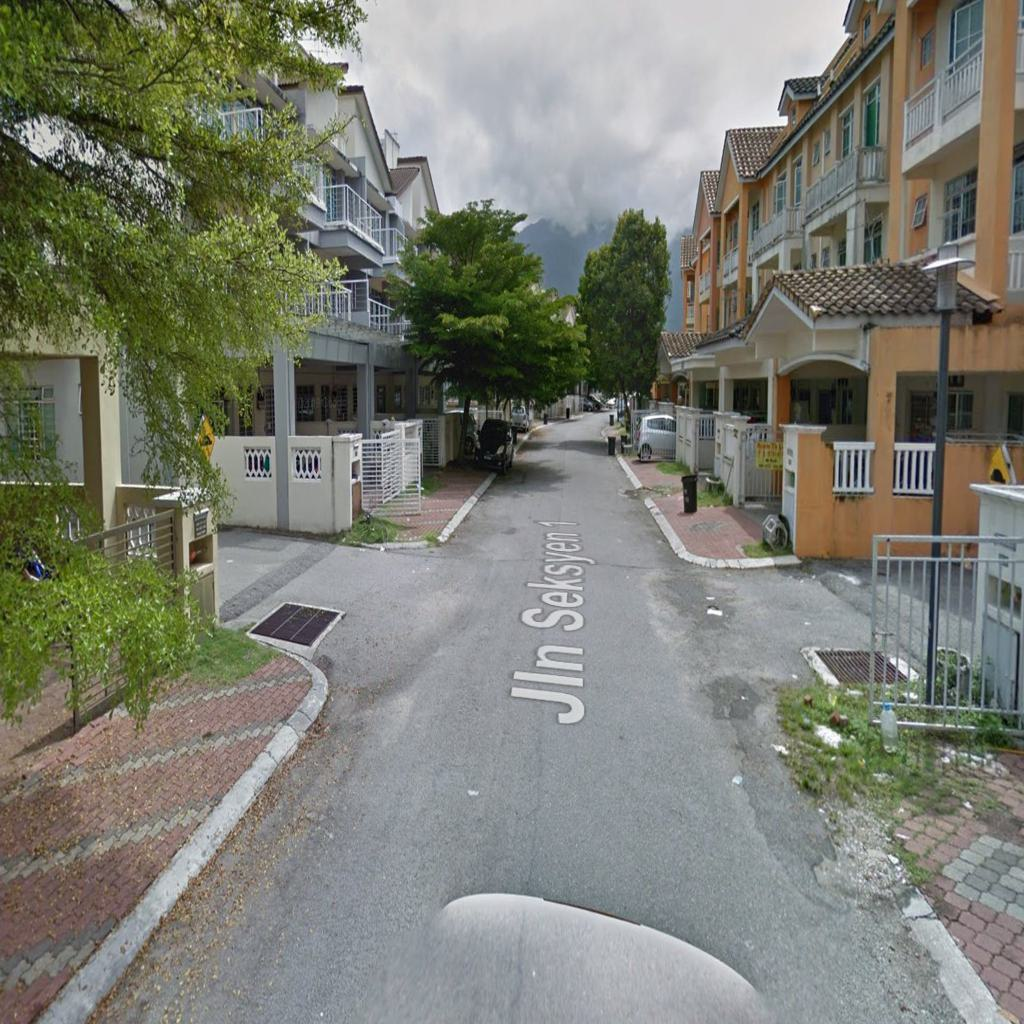Junction: (681, 509, 968, 729), (214, 488, 473, 724)
